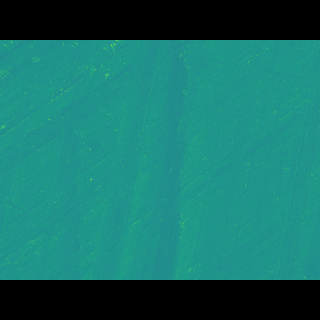Loch: (91, 70, 208, 250), (45, 68, 319, 108), (33, 91, 92, 250)
